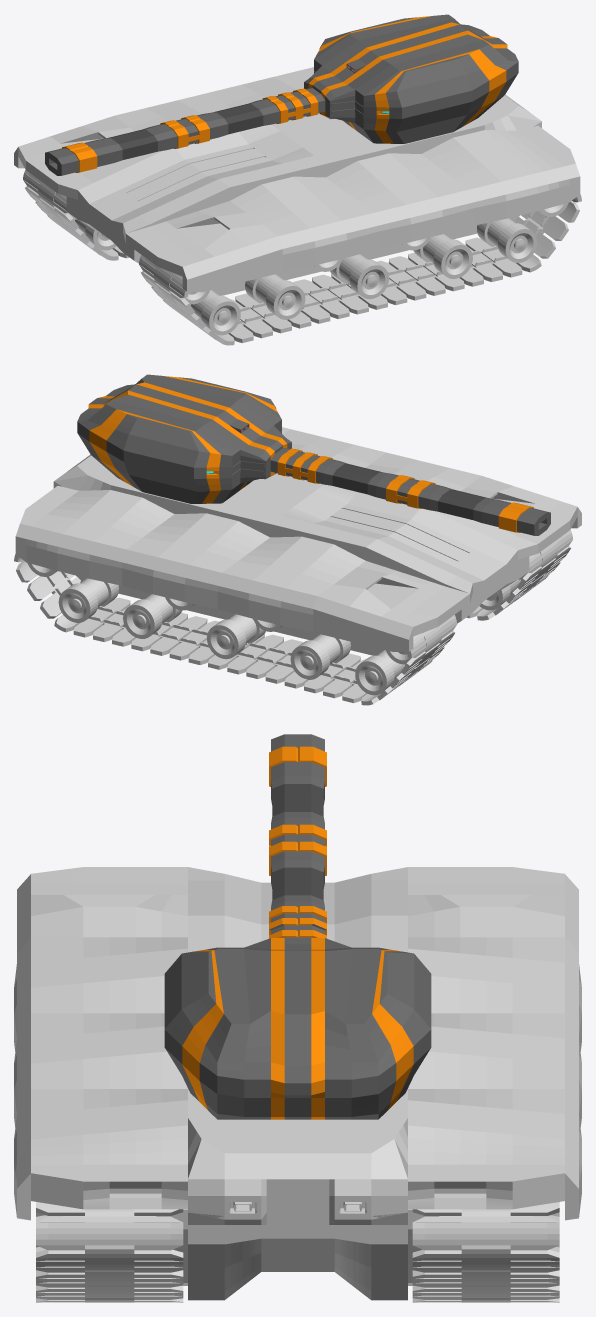
File: Tank.fbx
3 views of the same model, one above another, from view 1: azimuth 30°, elevation 25°; view 2: azimuth 150°, elevation 25°; view 3: azimuth 270°, elevation 25° (orthographic). The views are drawn at different scales.
Parts seen in each view (by area): view 1: Hull, Turret, Track, Track.001, u_r2, u_r5, u_r3, u_r4, u_r1, u_r1.001; view 2: Hull, Turret, Track.001, Track, u_r2.001, u_r5.001, u_r3.001, u_r4.001, u_r1.001, u_r1; view 3: Hull, Turret, Track.001, Track.
Boxes of the visible parts, left/top/right/bottom form: Hull: left=14, top=67, right=580, bottom=295; Turret: left=45, top=14, right=518, bottom=175; Track: left=139, top=194, right=581, bottom=345; Track.001: left=23, top=170, right=129, bottom=260; u_r2: left=245, top=273, right=305, bottom=319; u_r5: left=477, top=217, right=537, bottom=262; u_r3: left=330, top=253, right=388, bottom=299; u_r4: left=414, top=233, right=472, bottom=278; u_r1: left=190, top=289, right=240, bottom=335; u_r1.001: left=74, top=219, right=116, bottom=250; Hull: left=15, top=427, right=581, bottom=655; Turret: left=77, top=374, right=550, bottom=535; Track.001: left=14, top=554, right=457, bottom=705; Track: left=466, top=530, right=572, bottom=620; u_r2.001: left=290, top=633, right=350, bottom=679; u_r5.001: left=58, top=577, right=118, bottom=622; u_r3.001: left=207, top=613, right=265, bottom=659; u_r4.001: left=123, top=593, right=182, bottom=638; u_r1.001: left=355, top=649, right=405, bottom=695; u_r1: left=479, top=579, right=521, bottom=610; Hull: left=14, top=867, right=581, bottom=1300; Turret: left=164, top=734, right=431, bottom=1119; Track.001: left=412, top=1202, right=559, bottom=1302; Track: left=36, top=1202, right=183, bottom=1302.
Bounding box in the file's own units: 3774 × 1436 × 2487.
